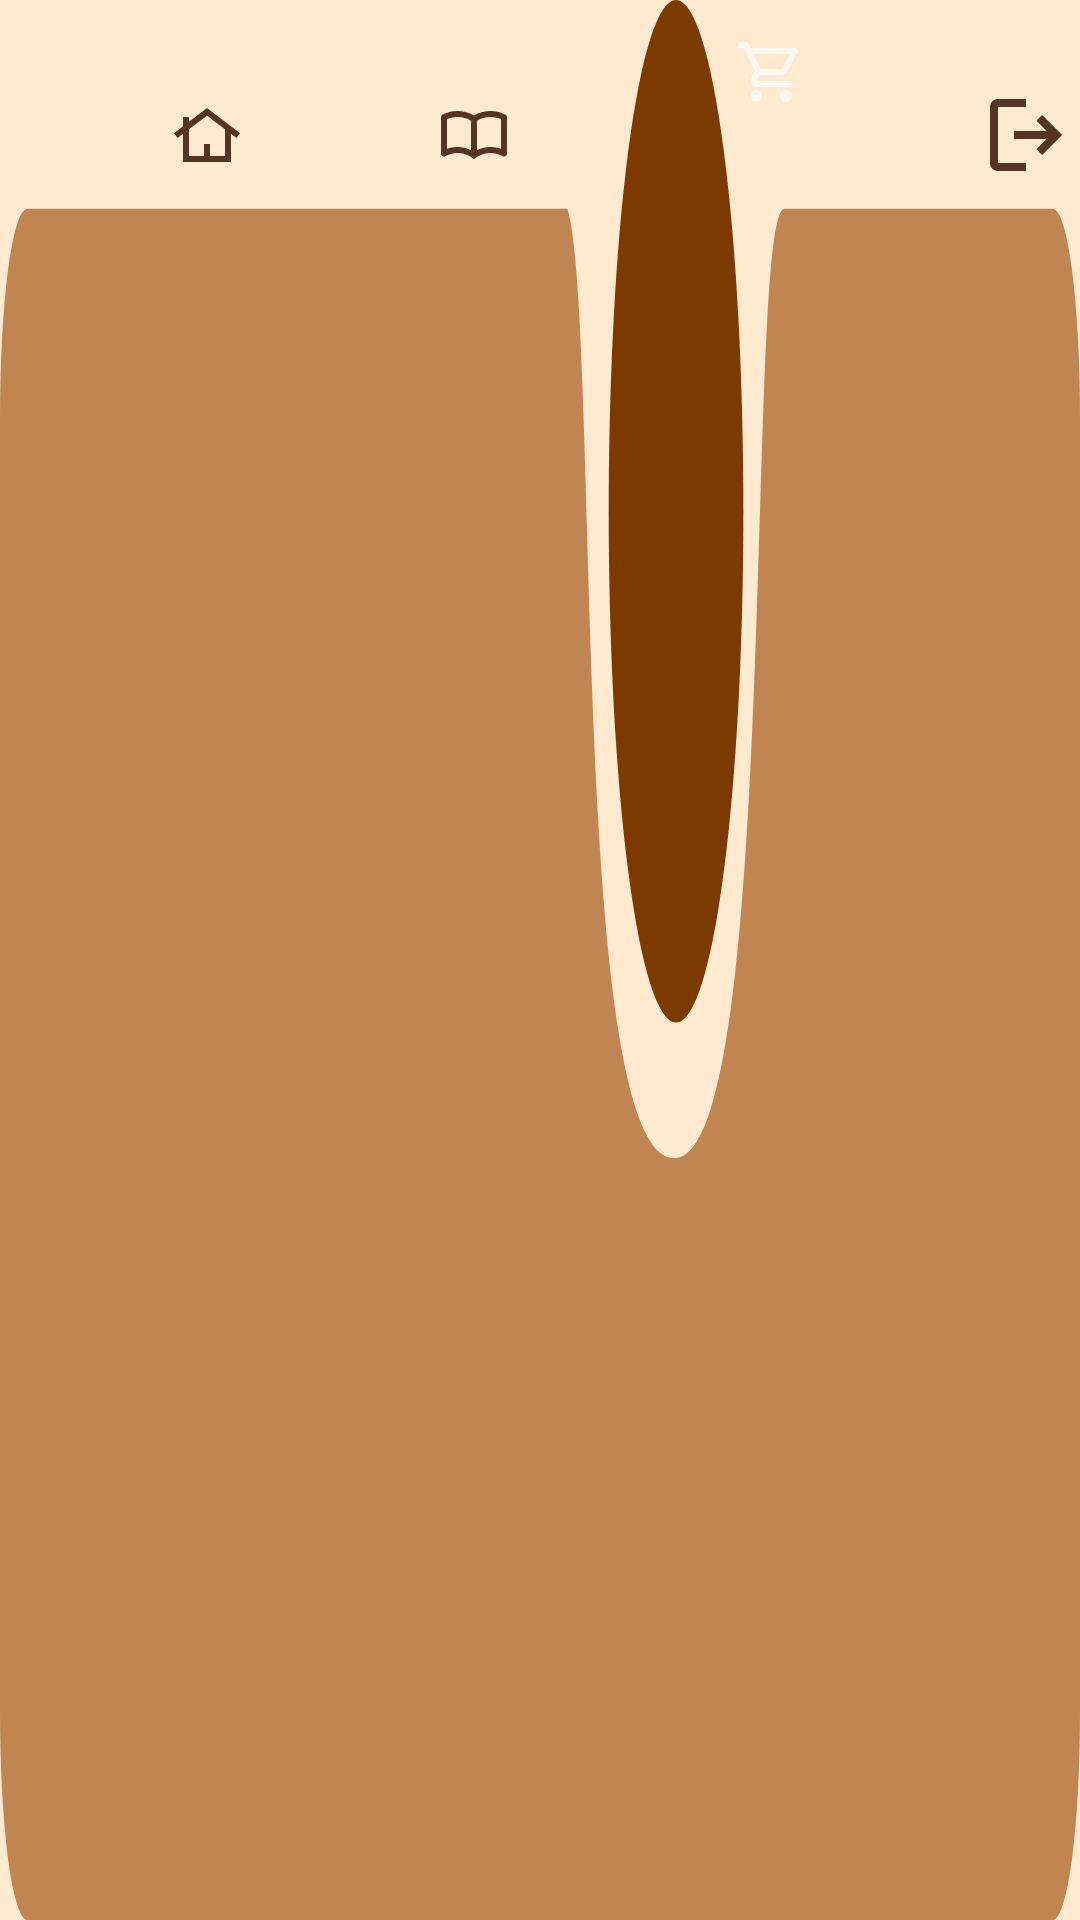

Where icons sit on this 1080w x 1920h app screen, as (x1, y1, x2, y2):
Books: (441, 111, 507, 159)
Home: (174, 108, 240, 162)
Stores: (738, 42, 798, 102)
